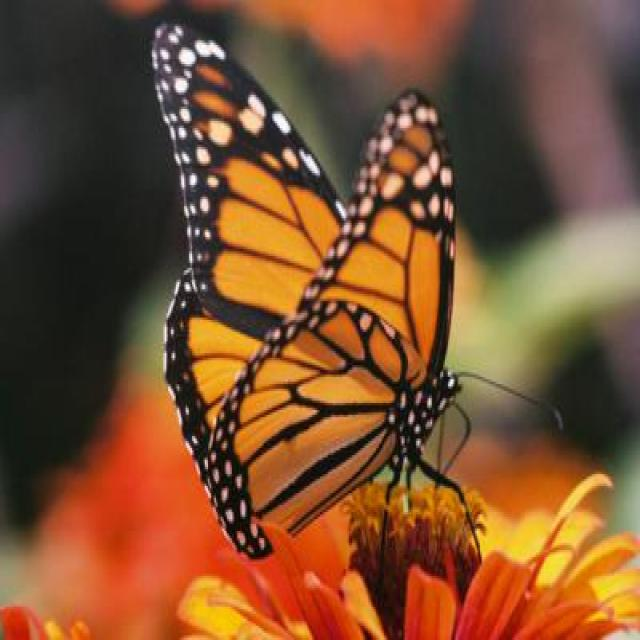antennae: (454, 356, 579, 441)
body: (383, 352, 464, 476)
insect: (149, 21, 575, 577)
legs: (379, 450, 488, 582)
wings: (151, 24, 455, 553)
